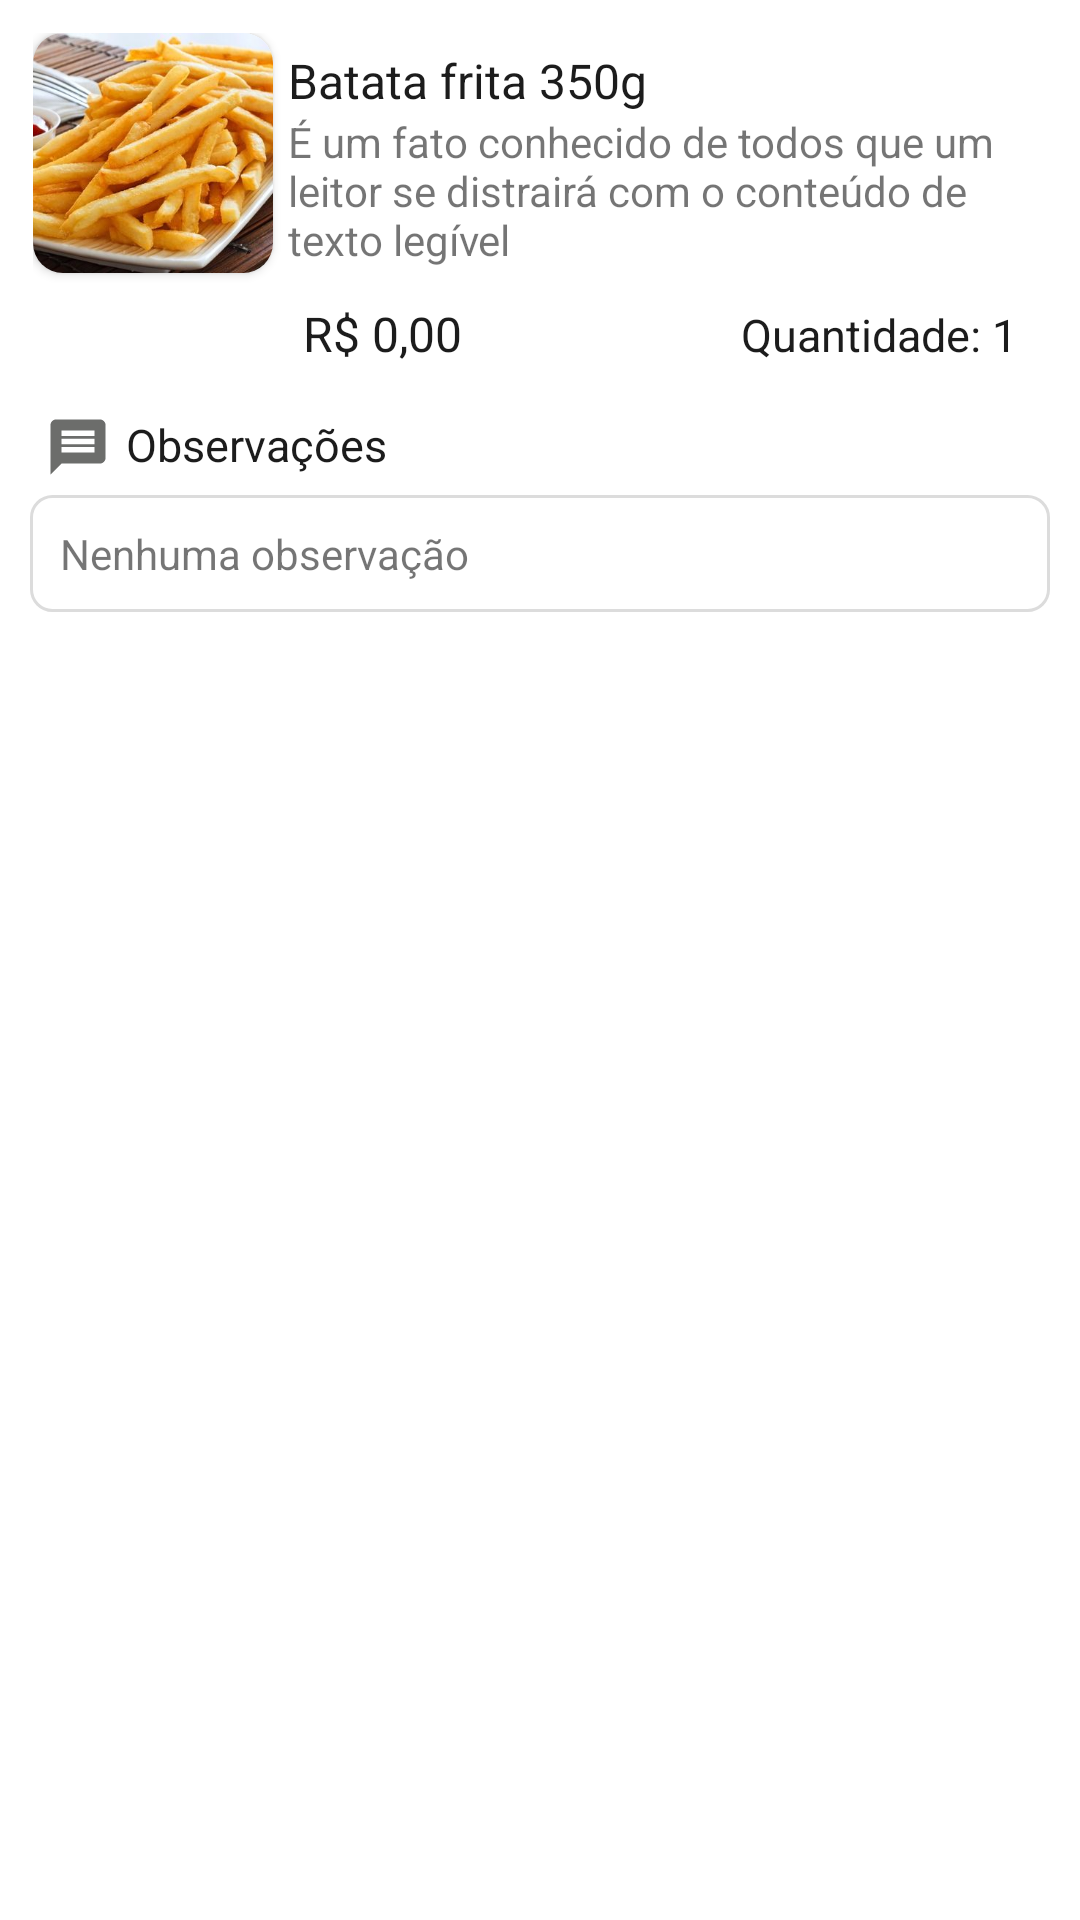

Icon click points for this 1080w x 1920h phone screenshot, format (x=x, y=y):
message: (x=78, y=447)
